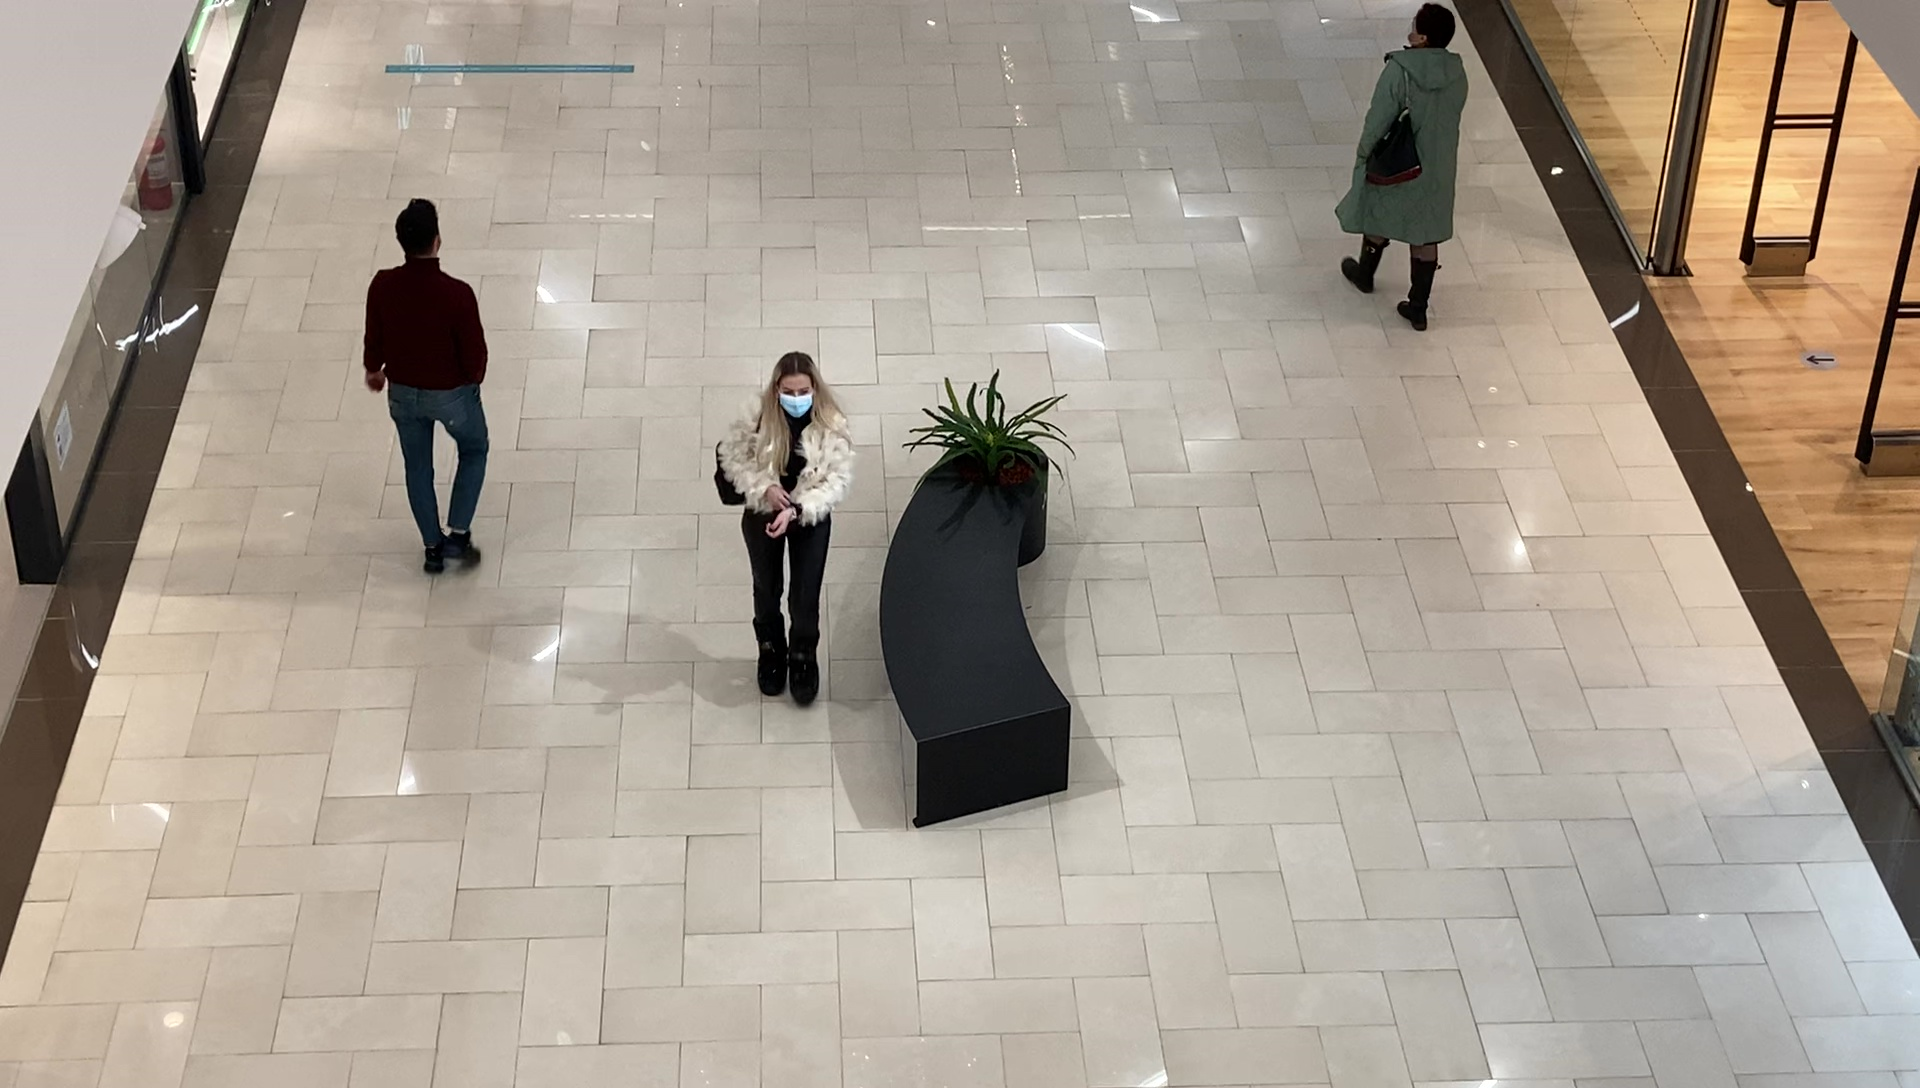person: (713, 352, 855, 706), (364, 198, 491, 578), (1338, 3, 1471, 335)
